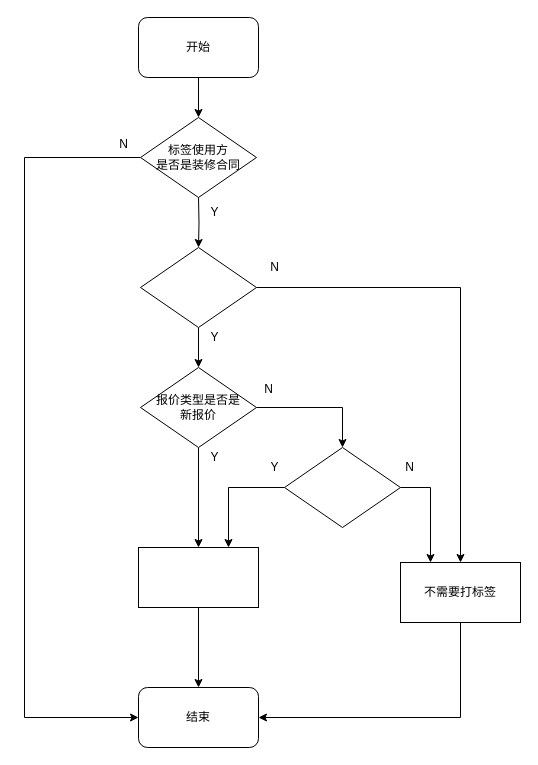
This 538x765 diagram has some shape labels left out. Each missing label, with the box of its shape:
产品版本是否为 1039/1044/1045/1037: (284, 446, 400, 528)
使用类型是否是 新收/续约: (140, 246, 256, 328)
需要打标签: (138, 546, 258, 608)
